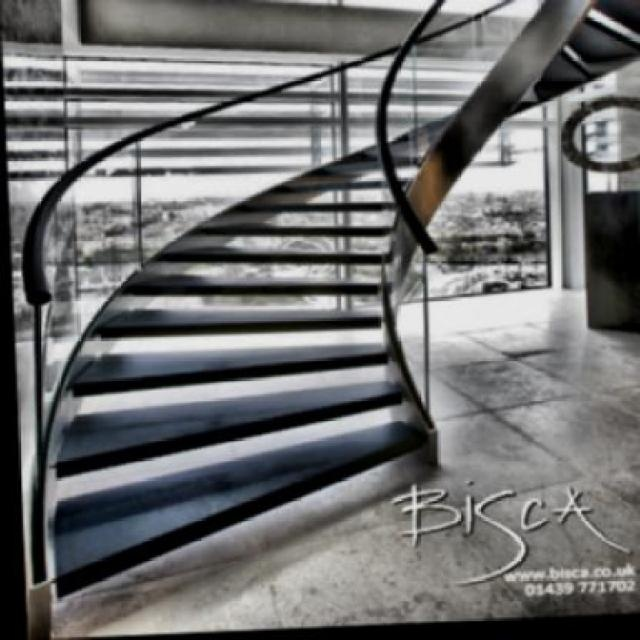stair: (9, 99, 445, 502)
